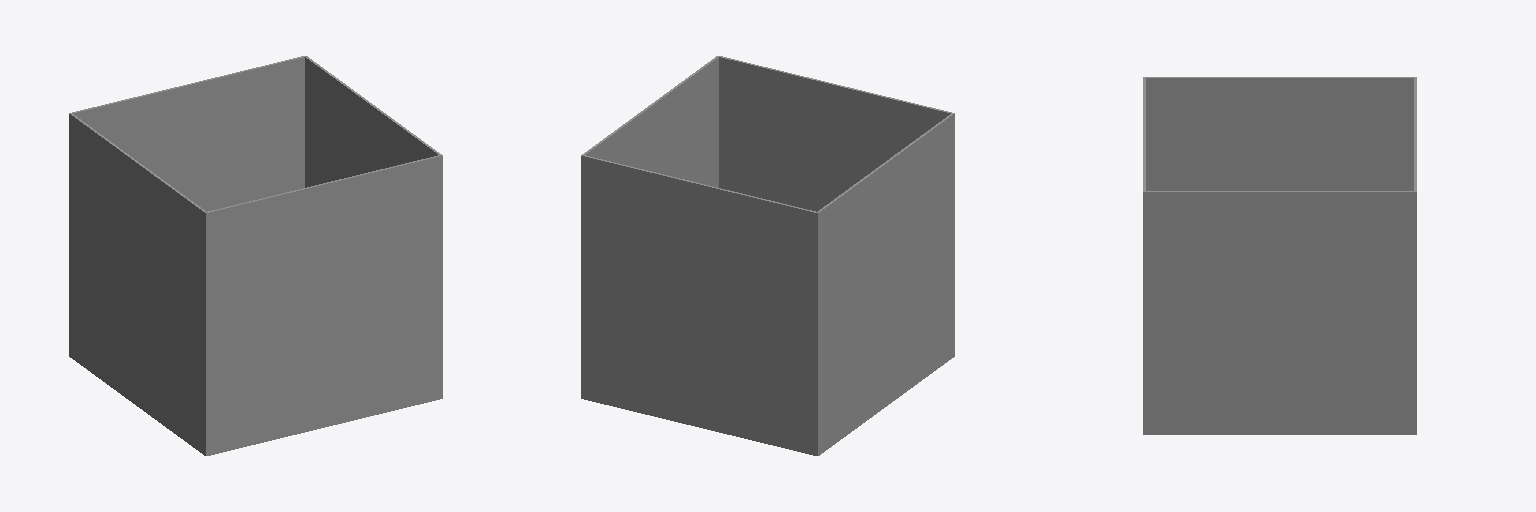
File: wall.obj
The picture shows the model from 3 angles: view 1: azimuth 30°, elevation 25°; view 2: azimuth 150°, elevation 25°; view 3: azimuth 270°, elevation 25°; orthographic projection.
Visible parts, largest first — view 1: Cube; view 2: Cube; view 3: Cube.
Boxes of the visible parts, x1=… form: Cube: x1=69, y1=56, x2=442, y2=455; Cube: x1=581, y1=56, x2=954, y2=455; Cube: x1=1143, y1=77, x2=1416, y2=434.
Bounding box in the file's own units: 2.04 × 2 × 2.04.